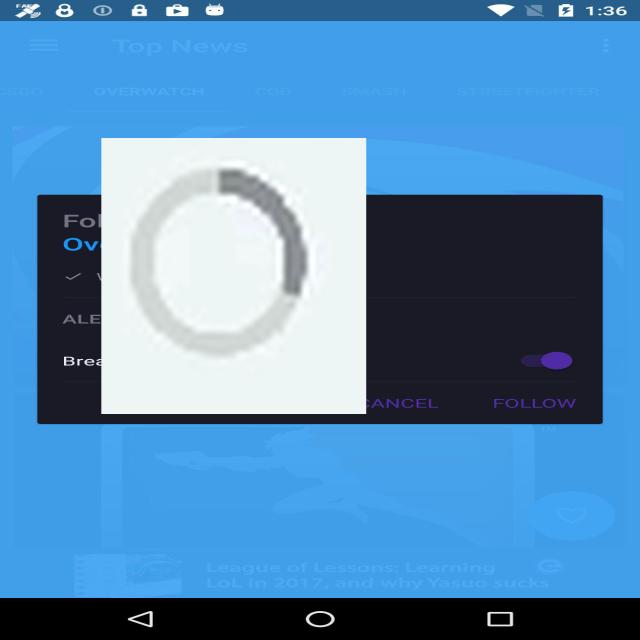misdirection: (101, 138, 366, 414)
